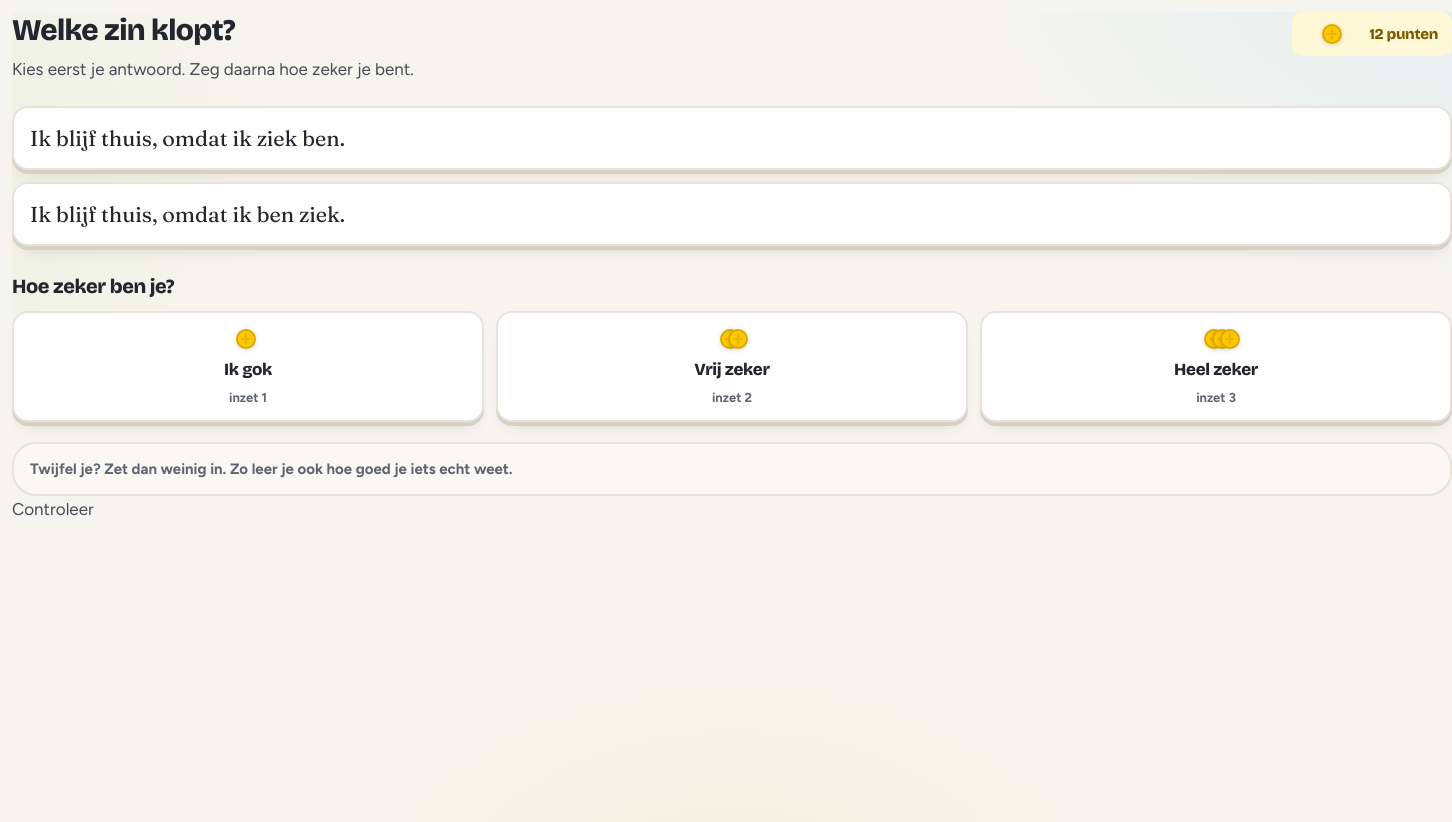
Test: groep D extra oefenvormen › controleert Durf je met antwoord en inzet
Click the radio button labelled "Ik blijf thuis, omdat ik ziek ben." at point(732, 138), box [12,106,1451,170]
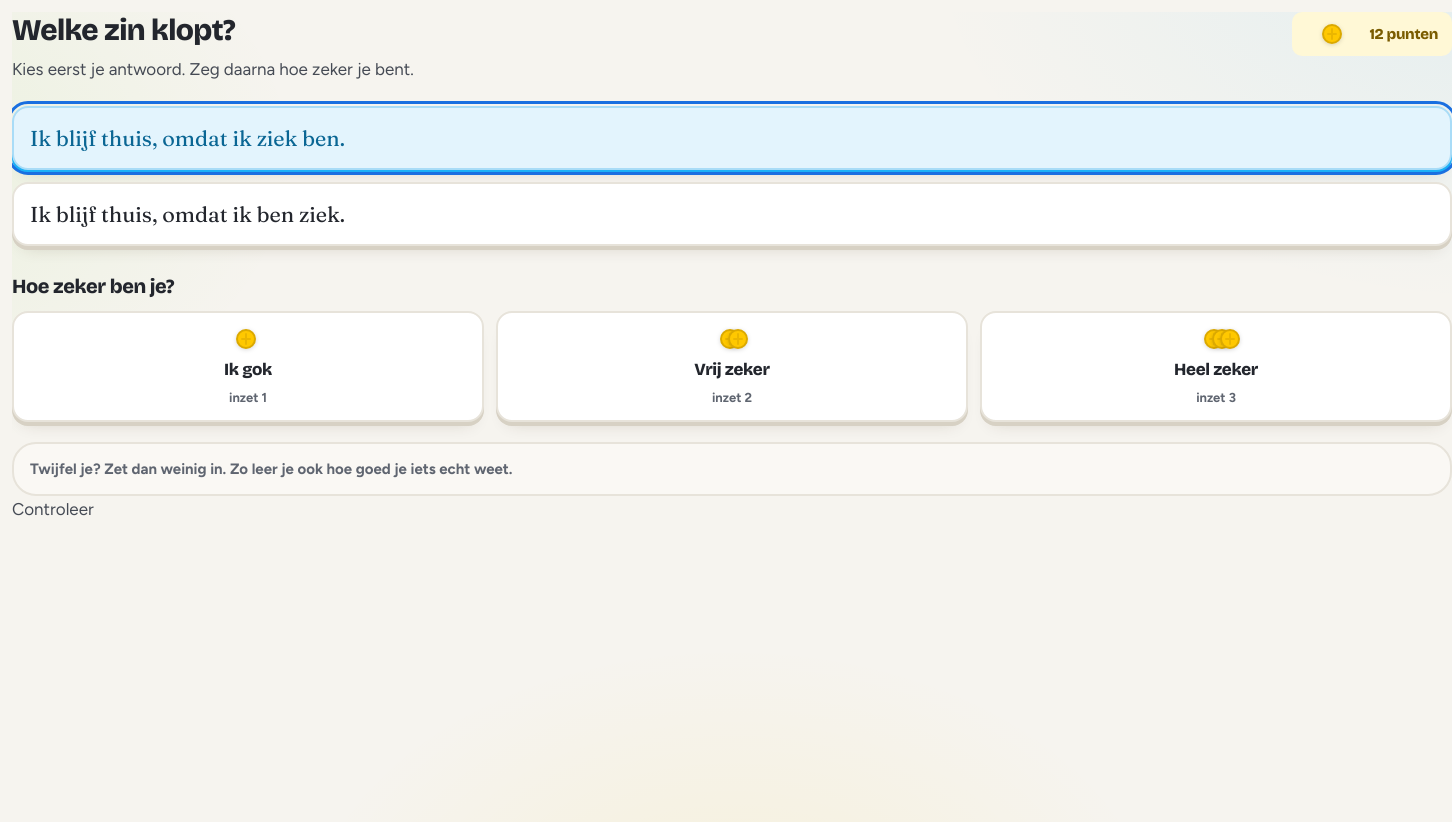
Click the radio button labelled "Heel zeker inzet 3" at point(1216, 366), box [980,311,1451,422]
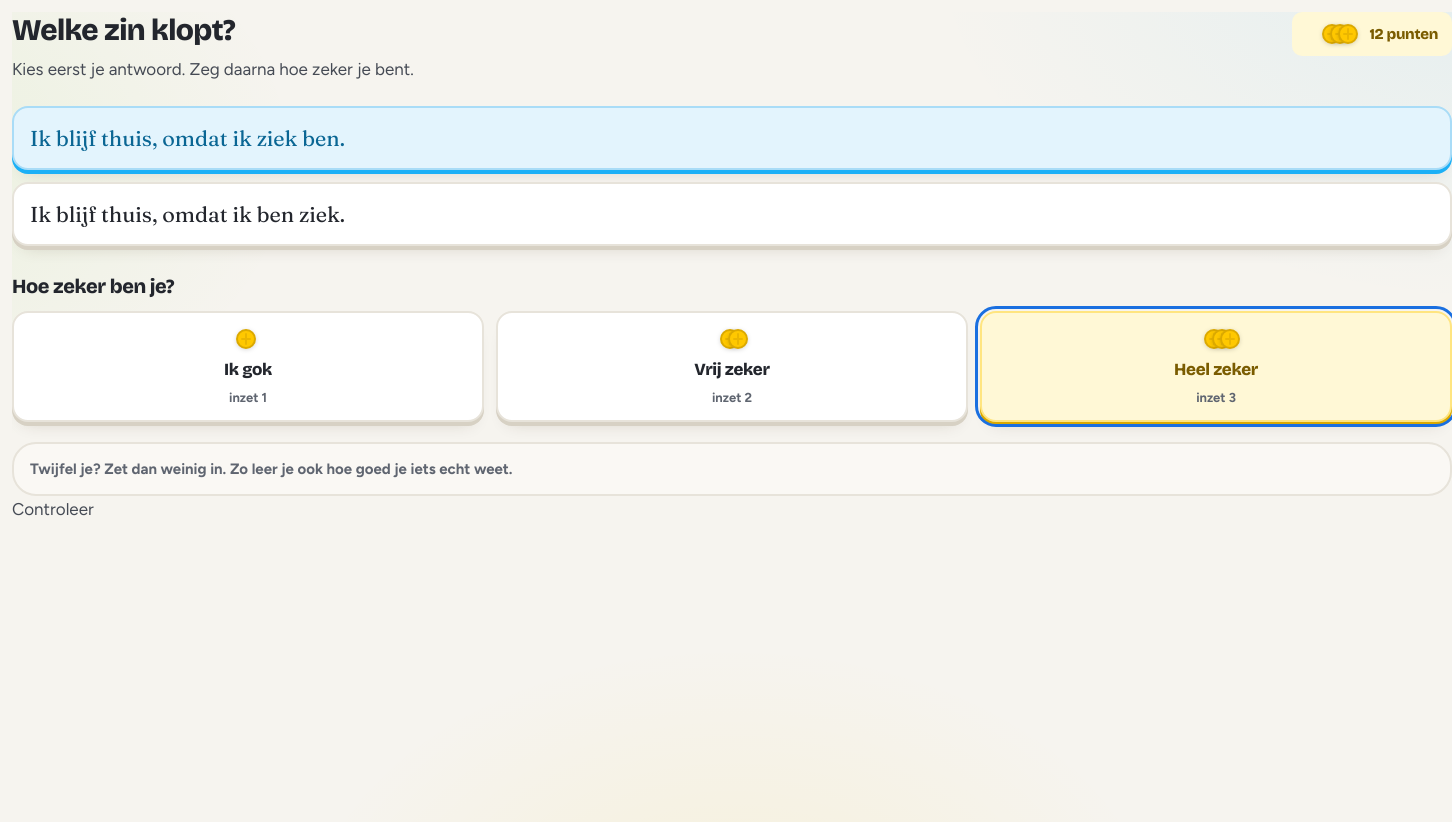
Click the button with test id "player-submit" at point(53, 509), box [12,496,94,522]
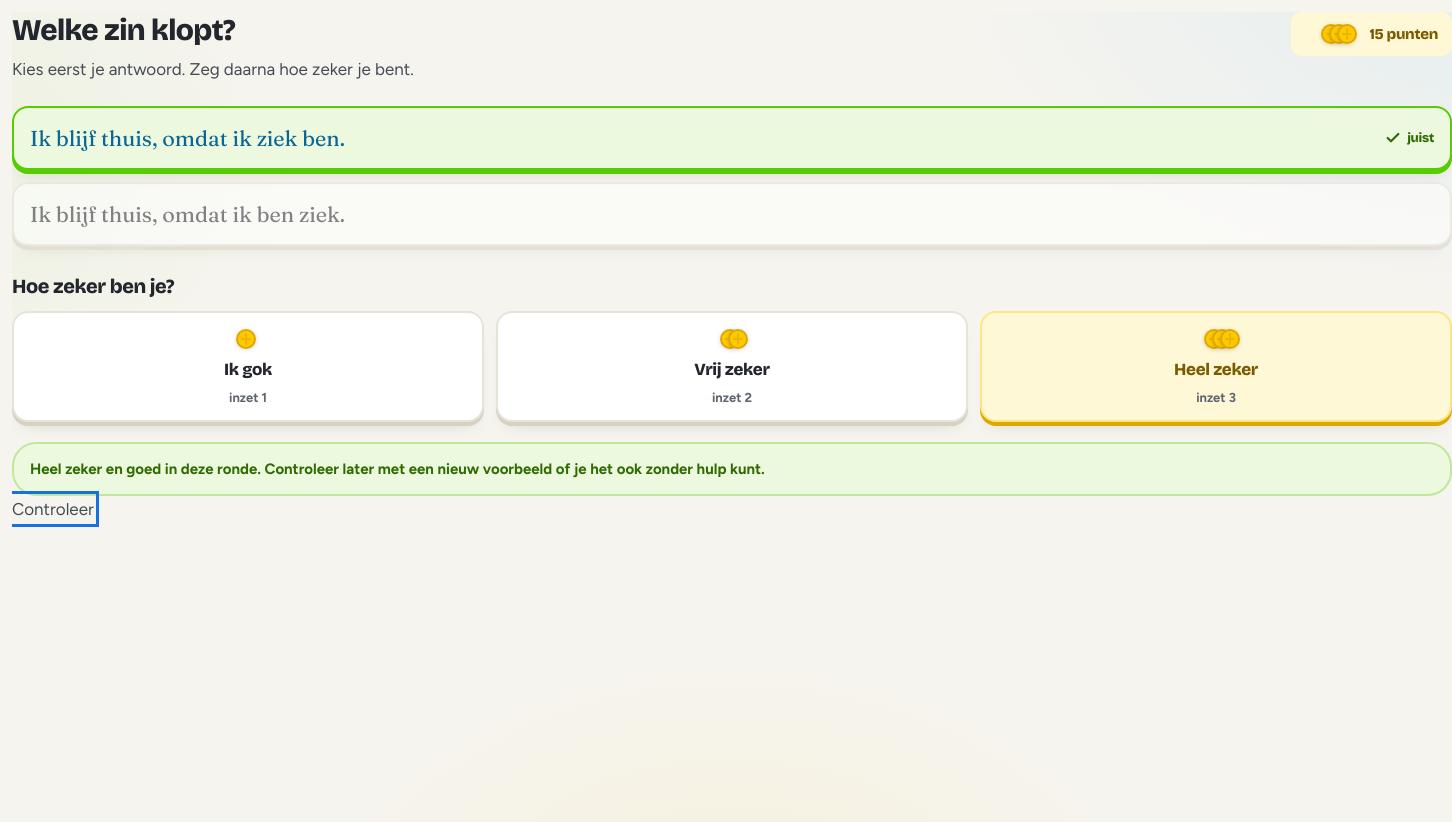
expect the text "Heel zeker en goed in deze ronde. Controleer later met een nieuw voorbeeld of je het ook zonder hulp kunt." is shown: met, box [30,460,765,478]
